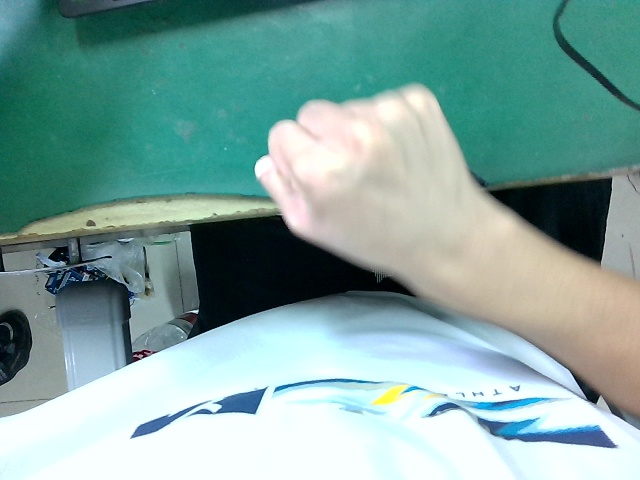stone: (241, 70, 510, 292)
